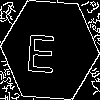E: (25, 25, 58, 73)
